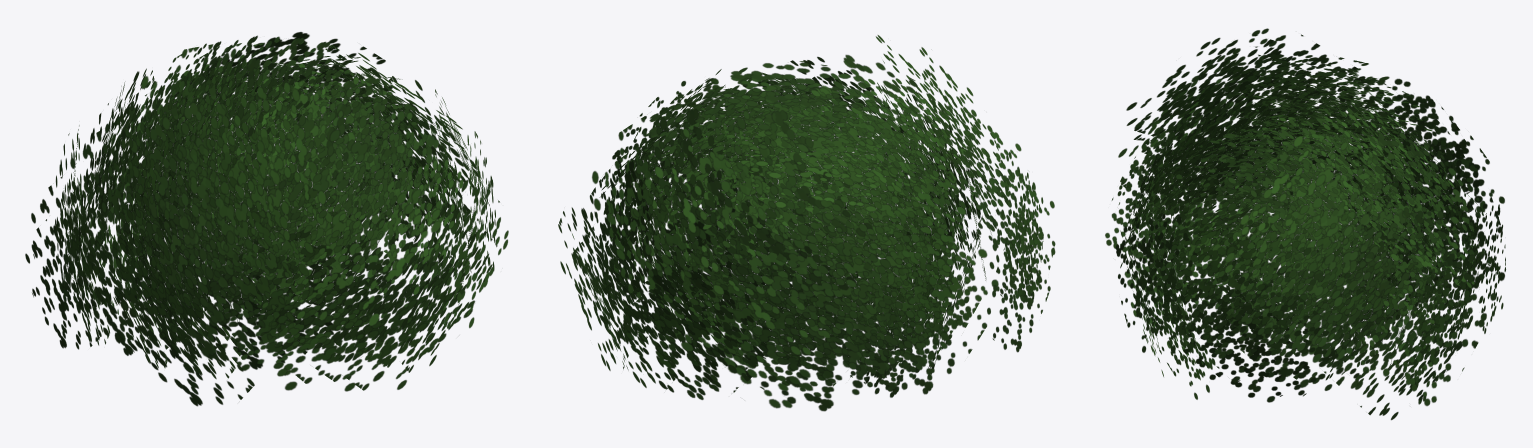
File: yard_shrub.glb
3 views of the same model, side by side, from view 1: azimuth 30°, elevation 25°; view 2: azimuth 150°, elevation 25°; view 3: azimuth 270°, elevation 25° (orthographic). The views are drawn at different scales.
Parts seen in each view (by area): view 1: shrub; view 2: shrub; view 3: shrub.
Part boxes in pixels (x1=…): shrub: x1=25, y1=32, x2=508, y2=406; shrub: x1=558, y1=35, x2=1055, y2=411; shrub: x1=1105, y1=28, x2=1505, y2=420.
Bounding box in the file's own units: 1.37 × 1.08 × 1.21.
1 material, 1 textured.
